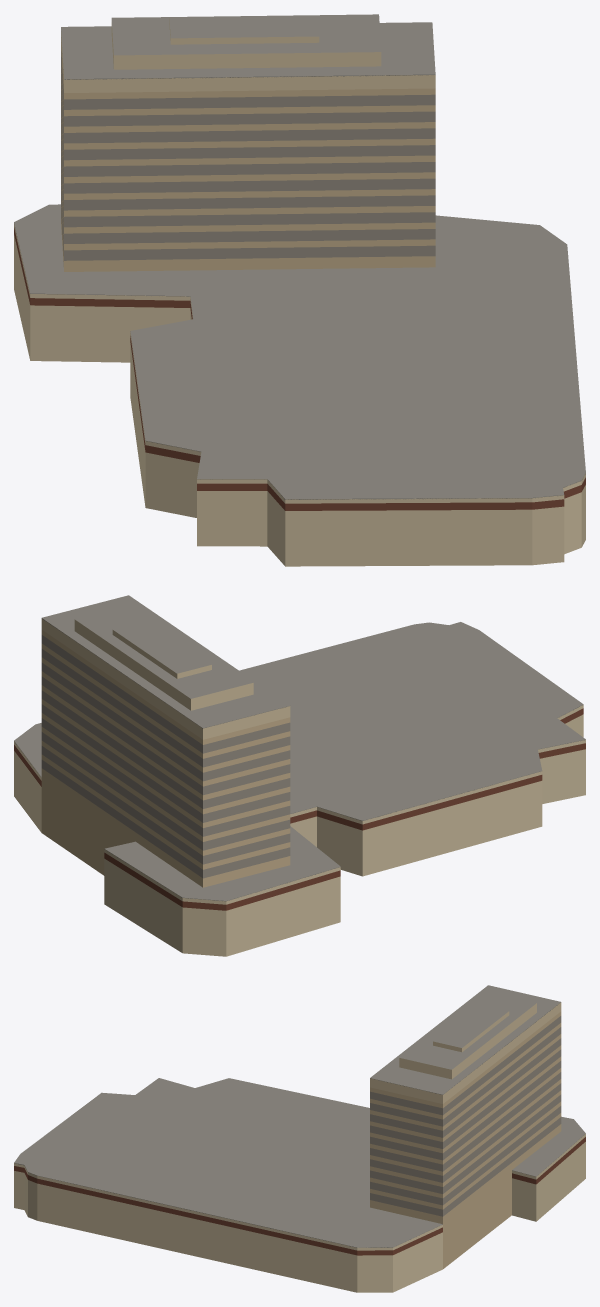
The model's file is main_street_station_w106228873.glb.
3 views of the same model, one above another, from view 1: azimuth 30°, elevation 25°; view 2: azimuth 150°, elevation 25°; view 3: azimuth 270°, elevation 25° (orthographic). The views are drawn at different scales.
Visible parts, largest first — view 1: Tower_w106228873; view 2: Tower_w106228873; view 3: Tower_w106228873.
Boxes of the visible parts, bbox=[...] form: Tower_w106228873: bbox=[14, 14, 585, 566]; Tower_w106228873: bbox=[14, 595, 585, 956]; Tower_w106228873: bbox=[14, 985, 585, 1292].
Bounding box in the file's own units: 103 × 53.6 × 147.
